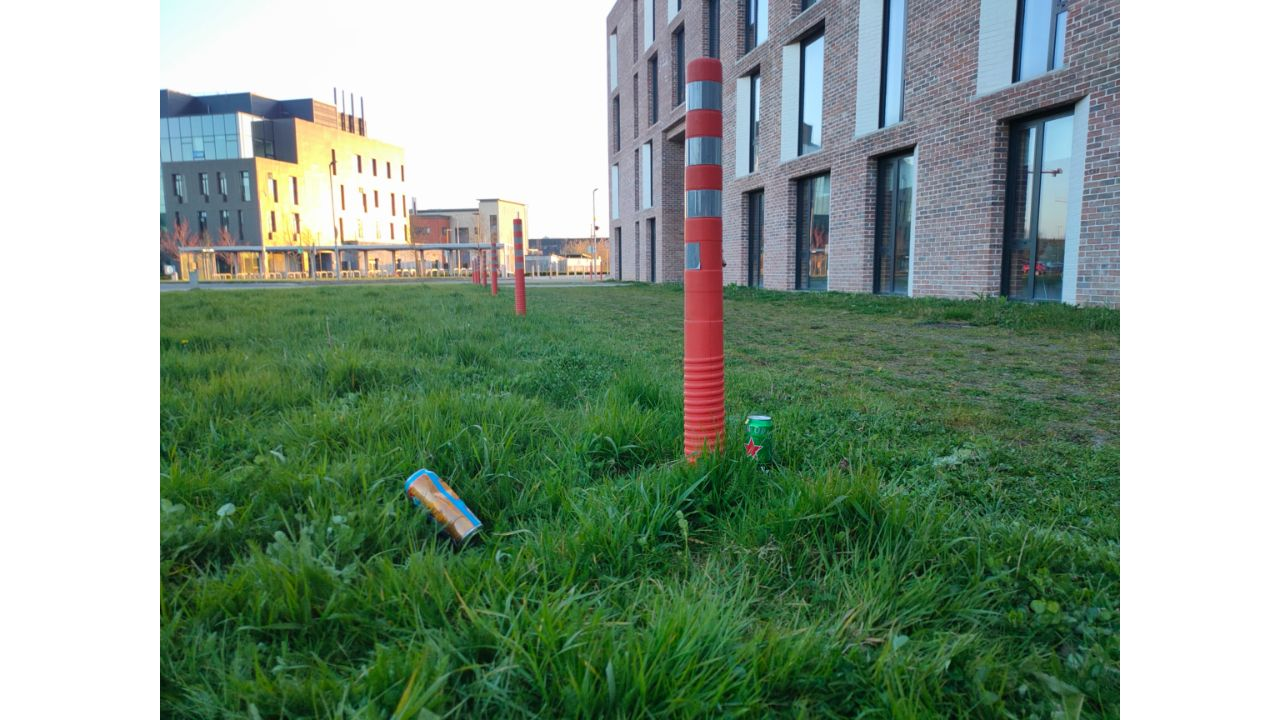Can: (398, 468, 487, 545), (744, 413, 773, 478)
